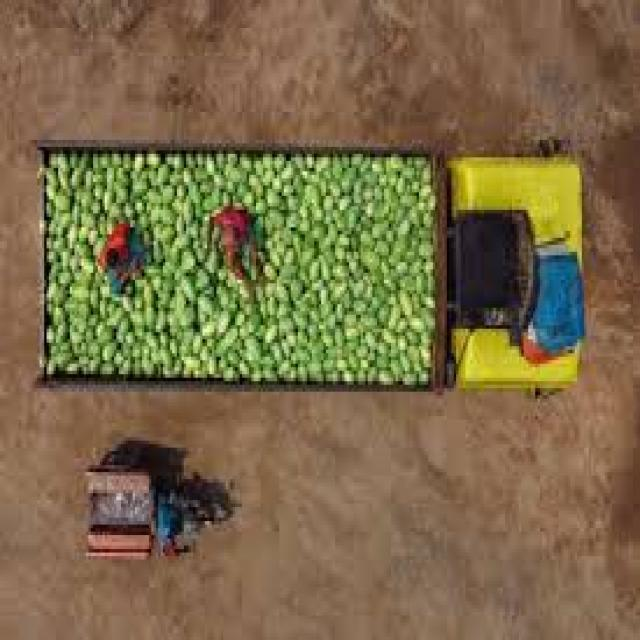uncovered: (32, 126, 585, 392)
